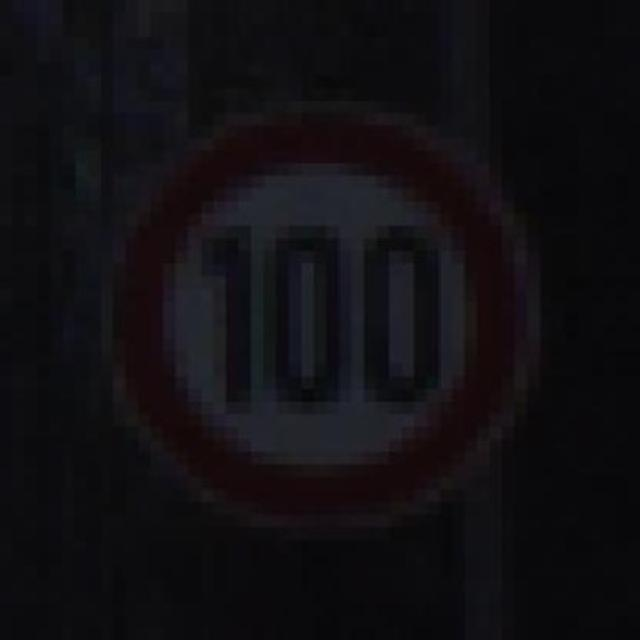forb_speed_over_100: (113, 116, 527, 524)
